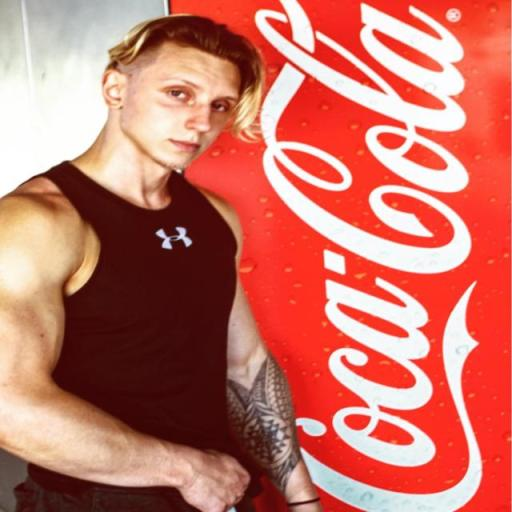Under Armour: (152, 224, 197, 250)
